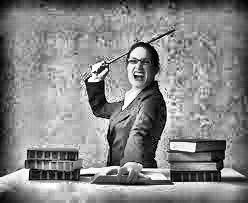angry: (120, 35, 166, 98)
